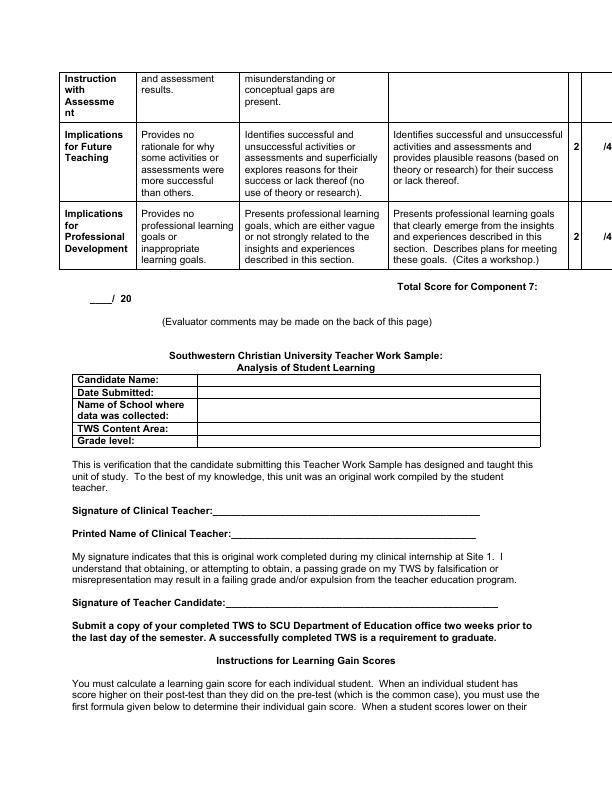input: (213, 503, 483, 522), (225, 594, 500, 611), (232, 526, 481, 544), (87, 291, 109, 307)
table: (54, 68, 612, 277), (67, 372, 552, 453)
text: (67, 675, 546, 717), (67, 548, 520, 589), (69, 459, 539, 496), (70, 618, 541, 647), (167, 347, 449, 374), (160, 312, 441, 331), (213, 653, 398, 670), (394, 276, 544, 295), (68, 501, 213, 517), (69, 595, 222, 610), (69, 526, 231, 540), (113, 290, 138, 306)
